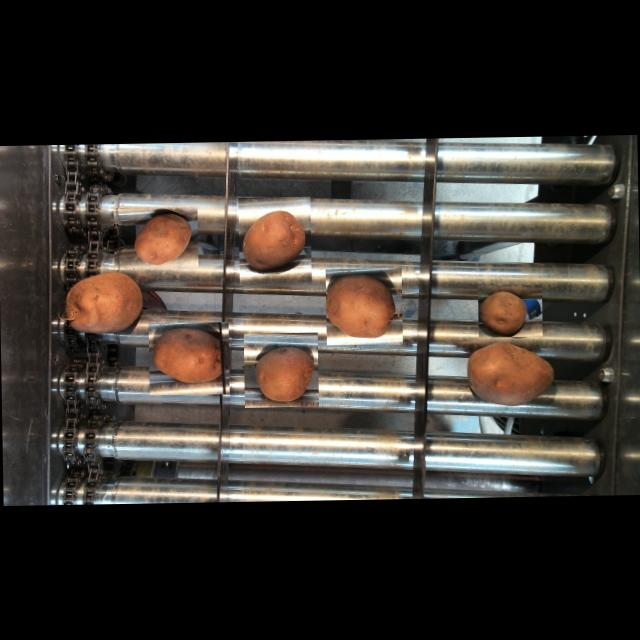Potato: (58, 262, 148, 346), (461, 340, 561, 413), (238, 197, 312, 286), (148, 322, 229, 395), (326, 268, 402, 344), (244, 332, 318, 407), (113, 207, 198, 270), (478, 284, 542, 337)
